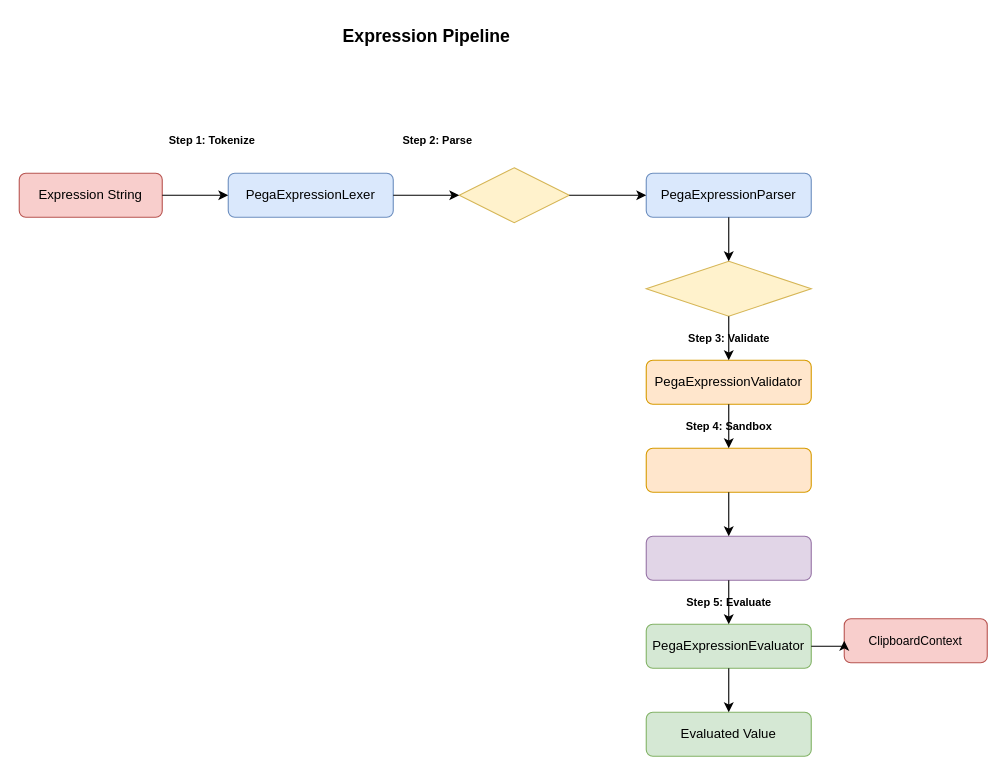
Some shapes in this 1007 by 776 pixel diagram are drawn without their labels. Each missing label, with the box of its shape:
ExpressionAST: (645, 260, 811, 316)
PegaEvaluationSandbox: (645, 447, 811, 492)
Token[]: (458, 167, 569, 223)
Worker Thread: (645, 535, 811, 580)
